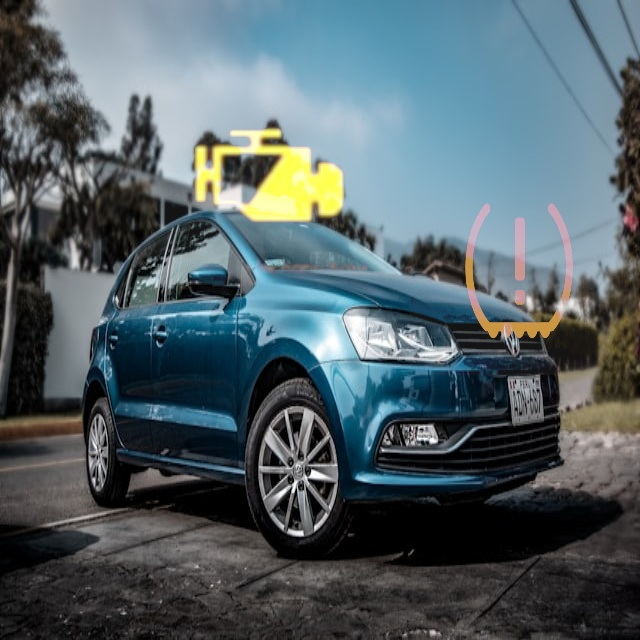symbol: (409, 155, 629, 375), (160, 68, 377, 285)
